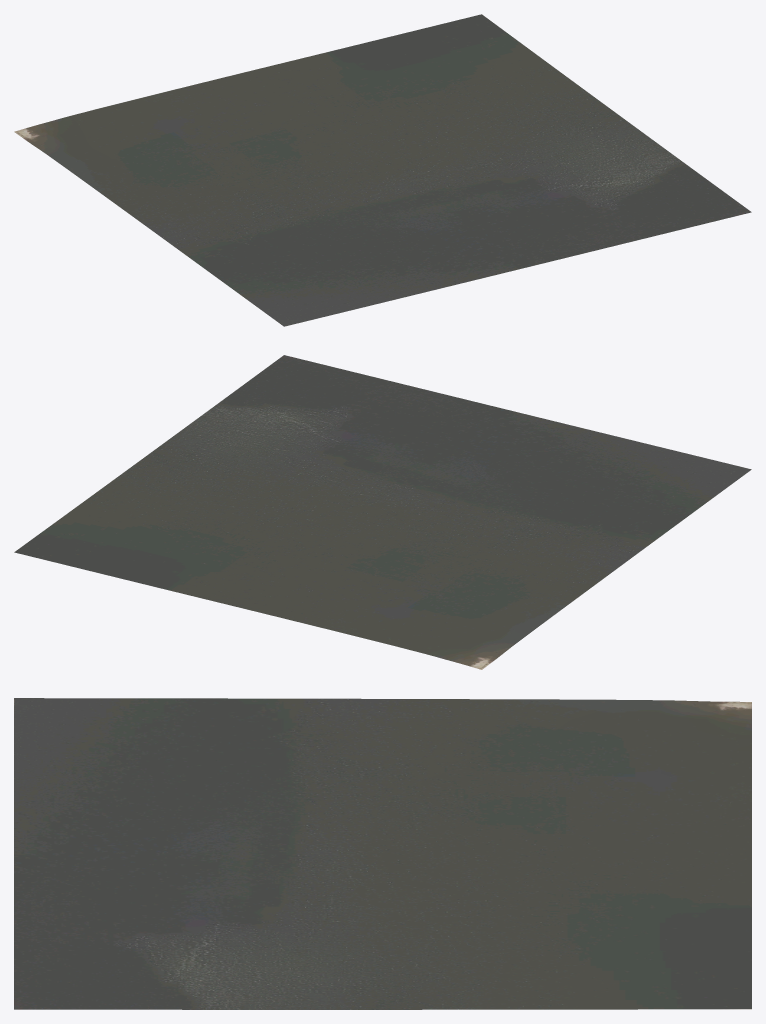
The model's file is CM_Terrain_24492302_6813650.fbx.
3 views of the same model, one above another, from view 1: azimuth 30°, elevation 25°; view 2: azimuth 150°, elevation 25°; view 3: azimuth 270°, elevation 25° (orthographic). The views are drawn at different scales.
Visible parts, largest first — view 1: CM_Terrain_24492302_6813650_LOD0; view 2: CM_Terrain_24492302_6813650_LOD0; view 3: CM_Terrain_24492302_6813650_LOD0.
Boxes of the visible parts, x1,y1,x2,y2 form: CM_Terrain_24492302_6813650_LOD0: (14,14,751,326); CM_Terrain_24492302_6813650_LOD0: (14,355,751,669); CM_Terrain_24492302_6813650_LOD0: (14,698,751,1009).
Size of what is drawn, in the model's own units: 205 by 1.43 by 205.
